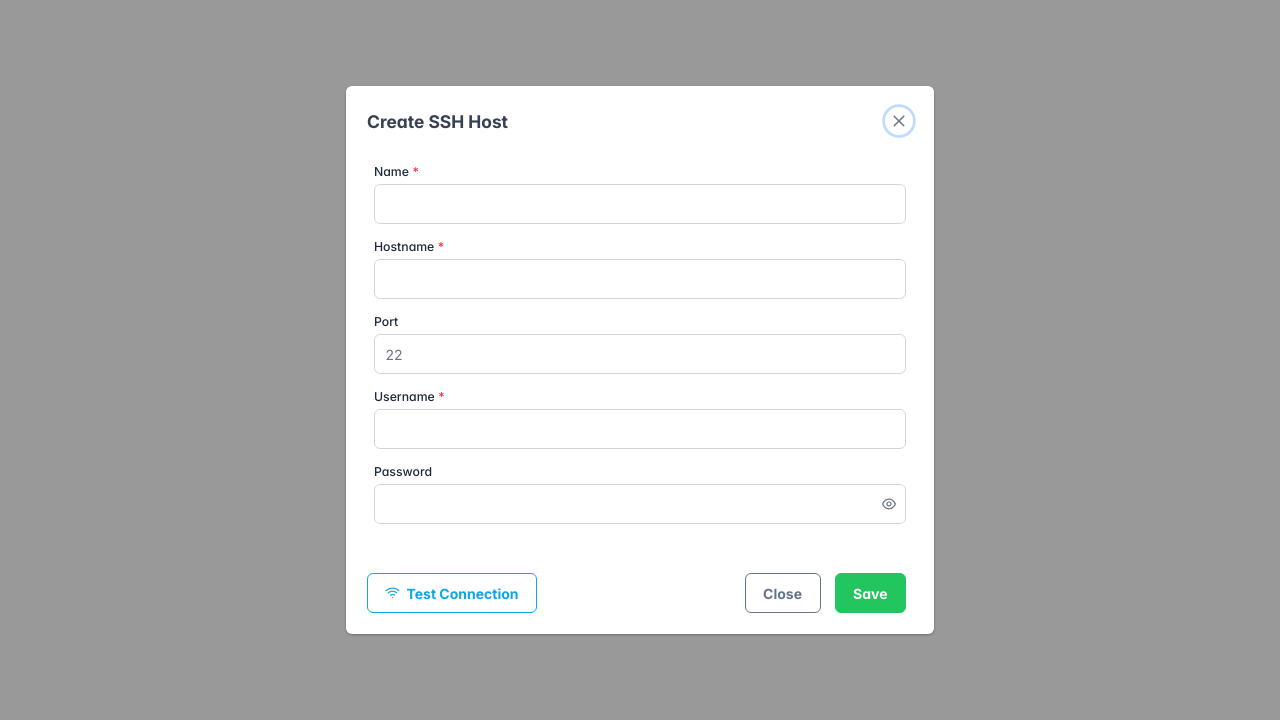
Test case: SshHostModal — auto-test SSH connection on save › creating a new SSH host › shows warning and Save Anyway when connection test fails
In the field labelled "Name*": (640, 204) [374,184,906,224], type "Test Host"
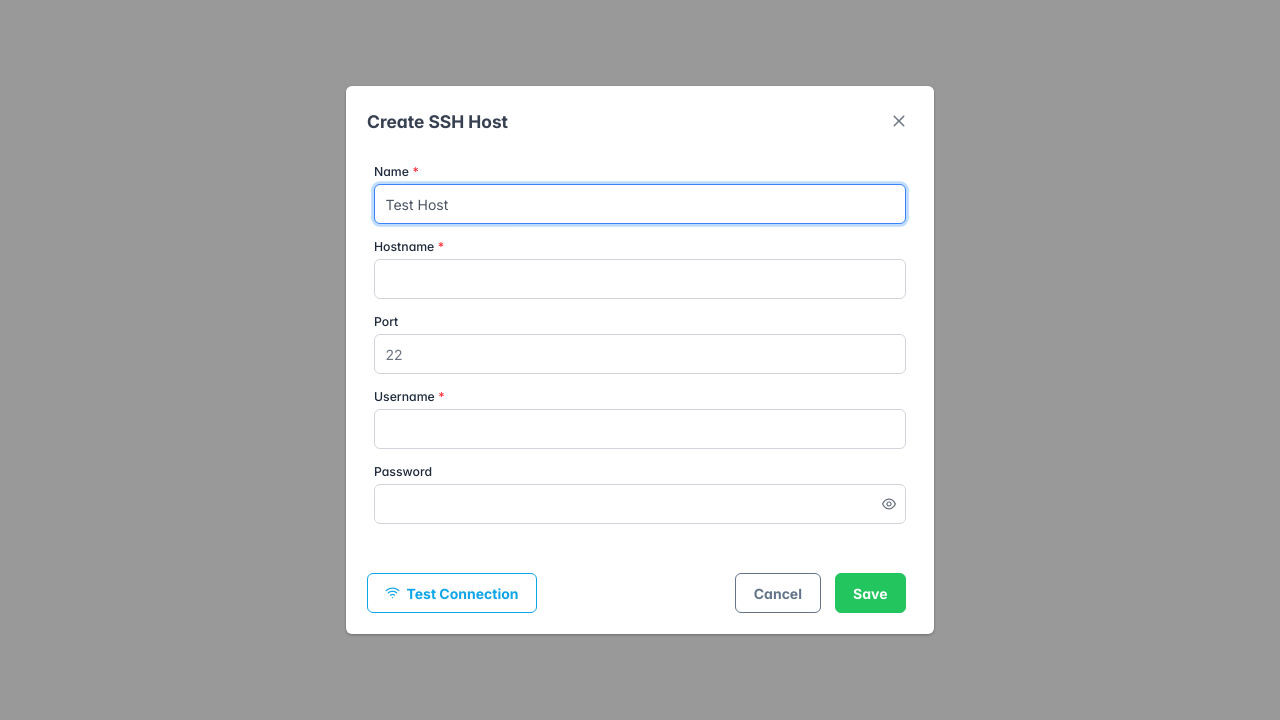
In the field labelled "Hostname*": (640, 279) [374,259,906,299], type "example.com"
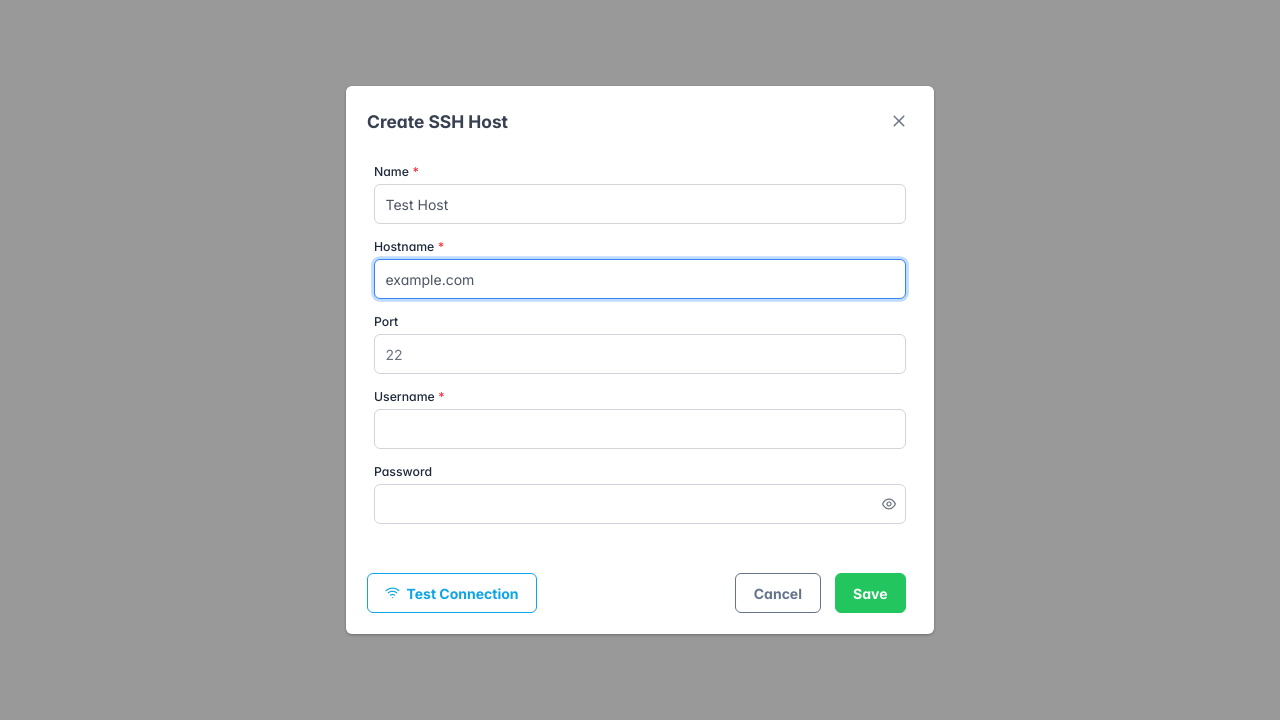
In the field labelled "Username*": (640, 429) [374,409,906,449], type "testuser"
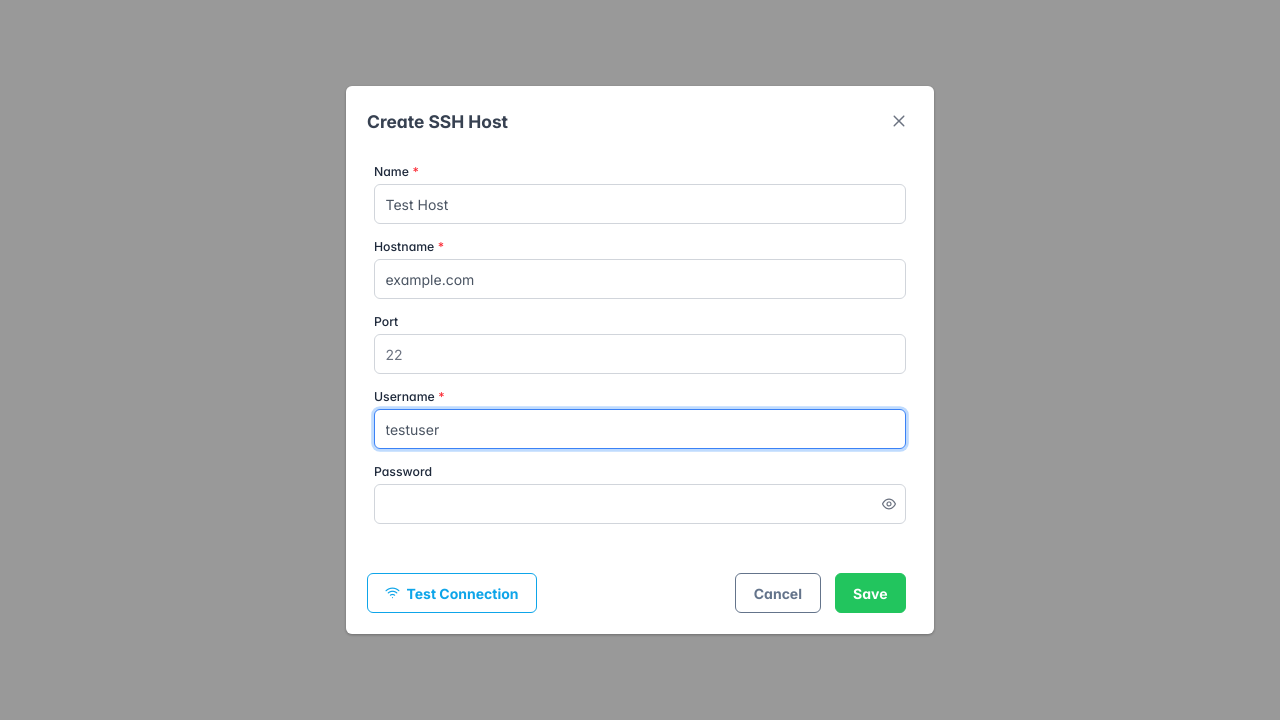
Click the button "Save": click(870, 593) [834,573,906,613]
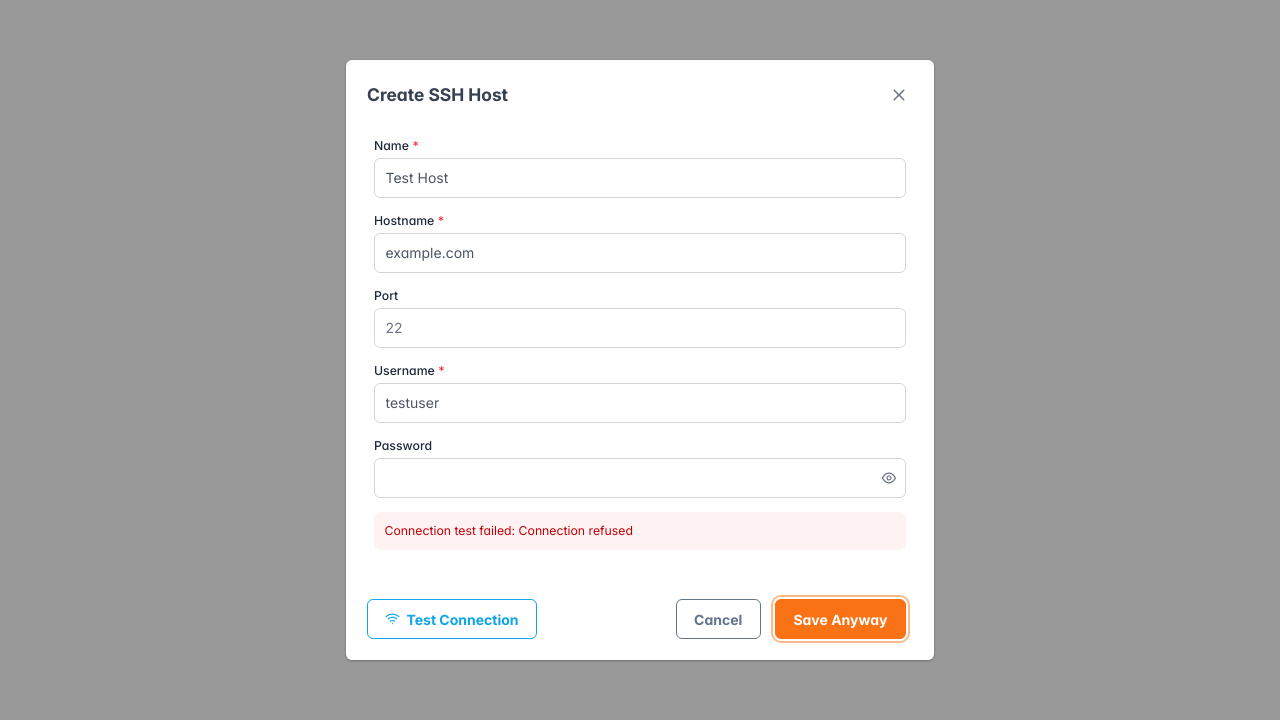
Expected: the text "Connection test failed" is shown, [384,523,633,538]
Expected: the text "Connection test failed: Connection refused" is shown, [374,512,906,550]
Expected: the button "Save Anyway" is shown, [775,599,906,639]
